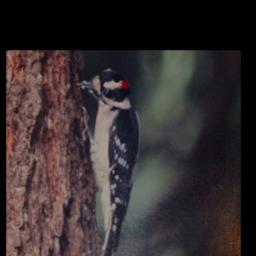Woodpecker: (76, 65, 143, 256)
